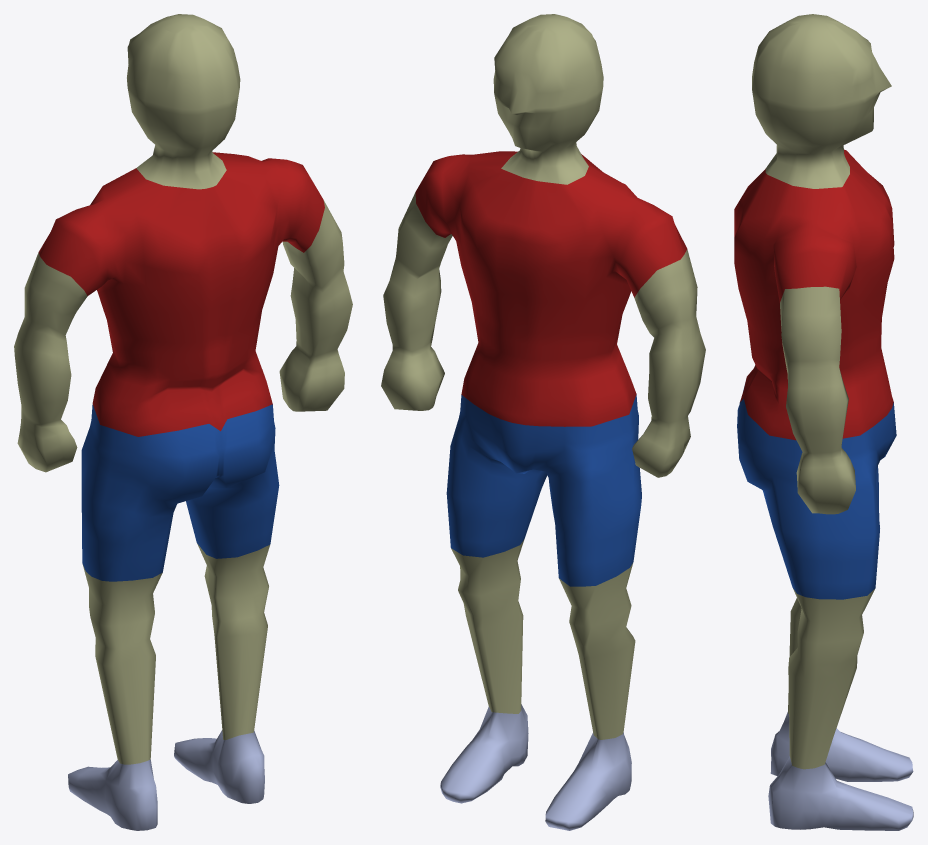
Rendered from Player_Model.fbx.
The picture shows the model from 3 angles, left to right: view 1: azimuth 30°, elevation 25°; view 2: azimuth 150°, elevation 25°; view 3: azimuth 270°, elevation 25°; orthographic projection. The views are drawn at different scales.
Visible parts, largest first — view 1: pSphere1; view 2: pSphere1; view 3: pSphere1.
Boxes of the visible parts, x1,y1,x2,y2 form: pSphere1: (14,14,352,830); pSphere1: (381,14,705,830); pSphere1: (734,14,913,830).
Size of the model in its own units: 3.4 by 8.04 by 1.67.
